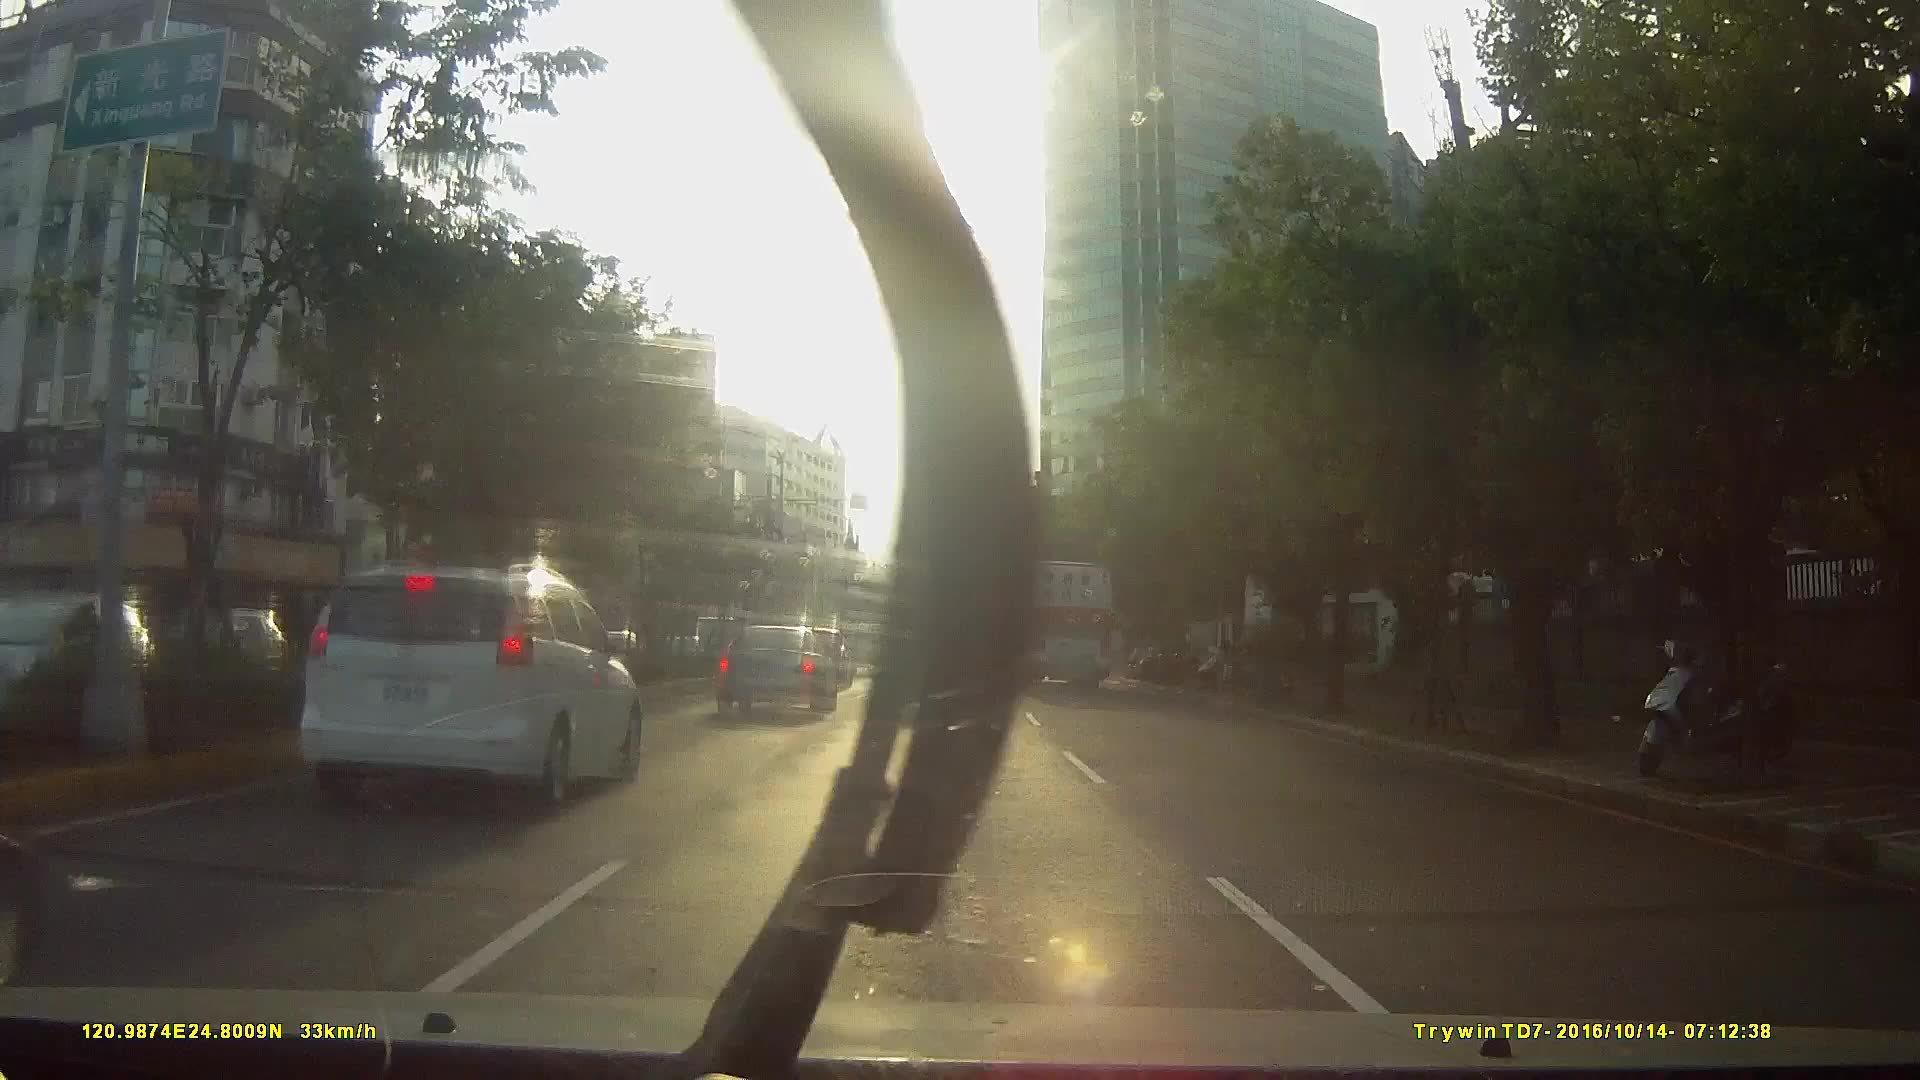vehicle: (251, 556, 684, 868), (287, 556, 653, 818), (1, 592, 177, 742), (1006, 553, 1116, 684), (712, 621, 837, 717), (884, 615, 996, 720), (848, 621, 899, 673)
